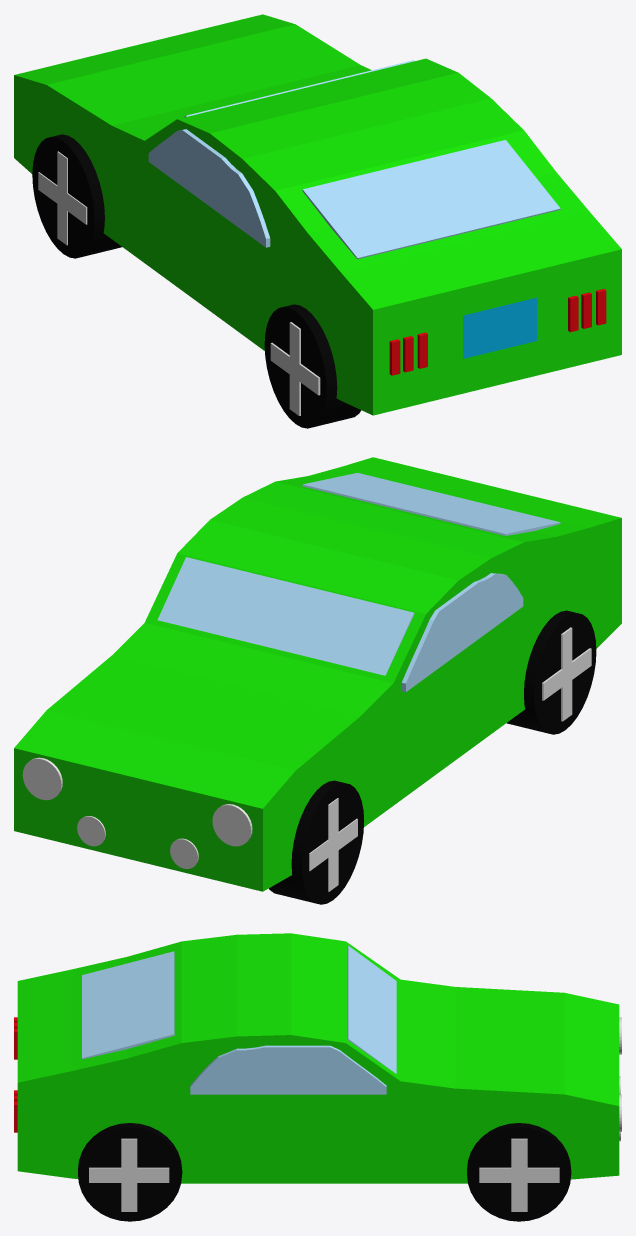
File: Green_Car.glb
The picture shows the model from 3 angles, top to bottom: view 1: azimuth 30°, elevation 25°; view 2: azimuth 150°, elevation 25°; view 3: azimuth 270°, elevation 25°; orthographic projection. The views are drawn at different scales.
Parts seen in each view (by area): view 1: Car_Body, Wheels, License_Plate, TailLights, Wheel_Decoration_4, Wheel_Decoration_3; view 2: Car_Body, Wheels, Headlights, Wheel_Decoration_4, Wheel_Decoration_3; view 3: Car_Body, Wheels, Wheel_Decoration_2, Wheel_Decoration_1.
Part boxes in pixels (x1=…): Car_Body: x1=14, y1=14, x2=621, y2=415; Wheels: x1=32, y1=134, x2=361, y2=428; License_Plate: x1=463, y1=297, x2=537, y2=358; TailLights: x1=389, y1=289, x2=606, y2=375; Wheel_Decoration_4: x1=270, y1=322, x2=320, y2=415; Wheel_Decoration_3: x1=38, y1=151, x2=87, y2=245; Car_Body: x1=14, y1=457, x2=621, y2=891; Wheels: x1=269, y1=610, x2=596, y2=904; Headlights: x1=22, y1=757, x2=252, y2=868; Wheel_Decoration_4: x1=542, y1=627, x2=591, y2=721; Wheel_Decoration_3: x1=309, y1=798, x2=357, y2=891; Car_Body: x1=17, y1=933, x2=619, y2=1183; Wheels: x1=78, y1=1123, x2=571, y2=1221; Wheel_Decoration_2: x1=479, y1=1138, x2=559, y2=1211; Wheel_Decoration_1: x1=89, y1=1138, x2=169, y2=1211.
Size of the model in its own units: 1.32 by 1 by 3.03.
